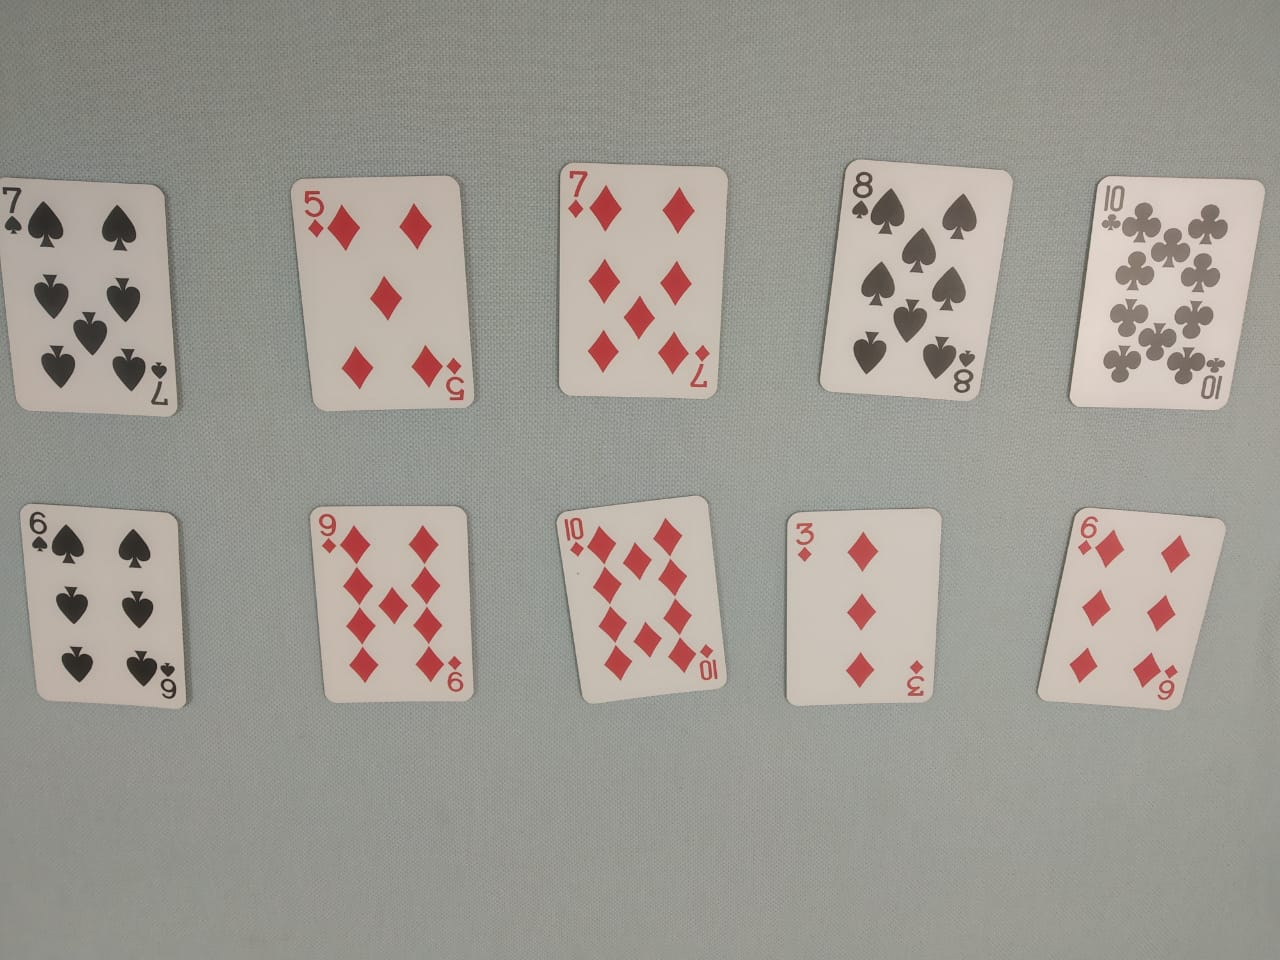eight: (802, 143, 1008, 458)
five: (279, 156, 508, 446)
nine: (288, 455, 489, 758)
seven: (542, 121, 749, 433), (1, 157, 189, 439)
six: (1, 481, 233, 765), (1036, 487, 1221, 750)
ten: (1064, 119, 1258, 461), (542, 478, 748, 762)
three: (773, 494, 969, 755)
